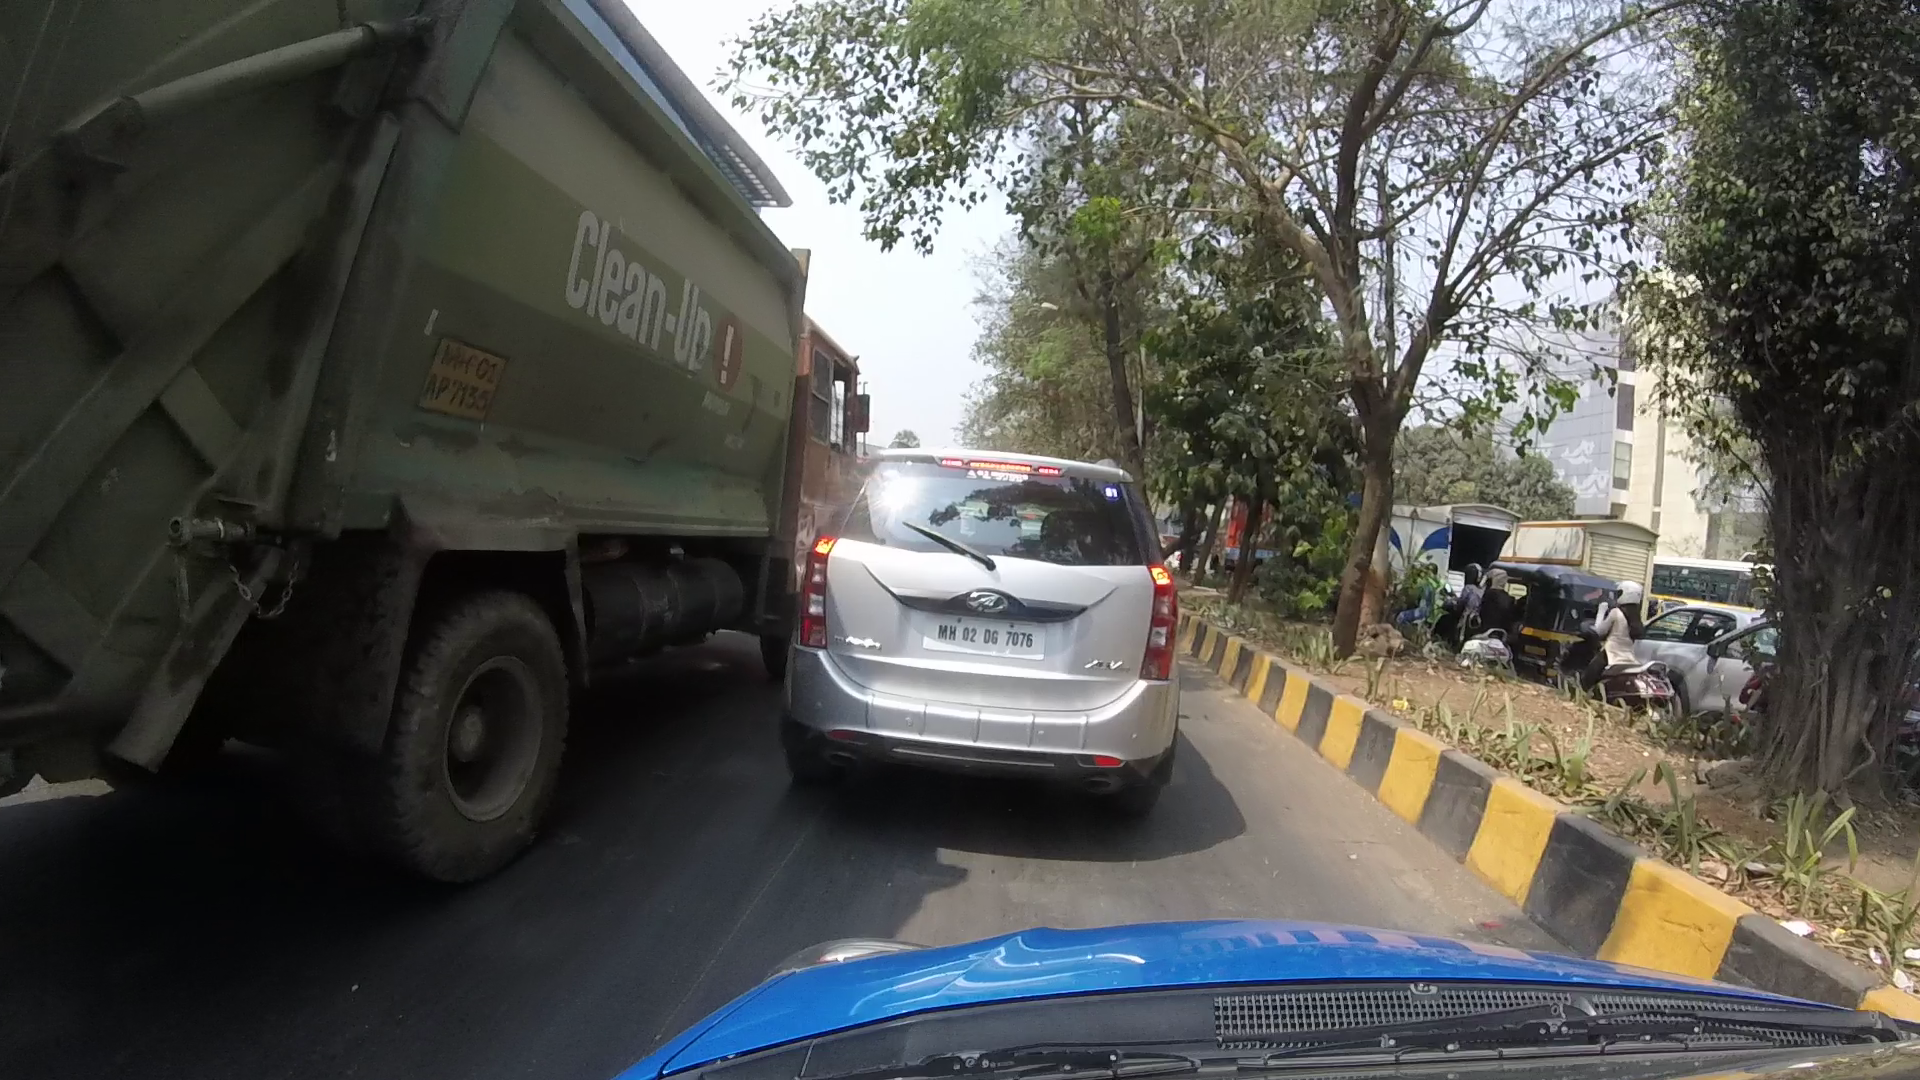car: (793, 444, 1182, 786)
truck: (25, 11, 872, 862)
